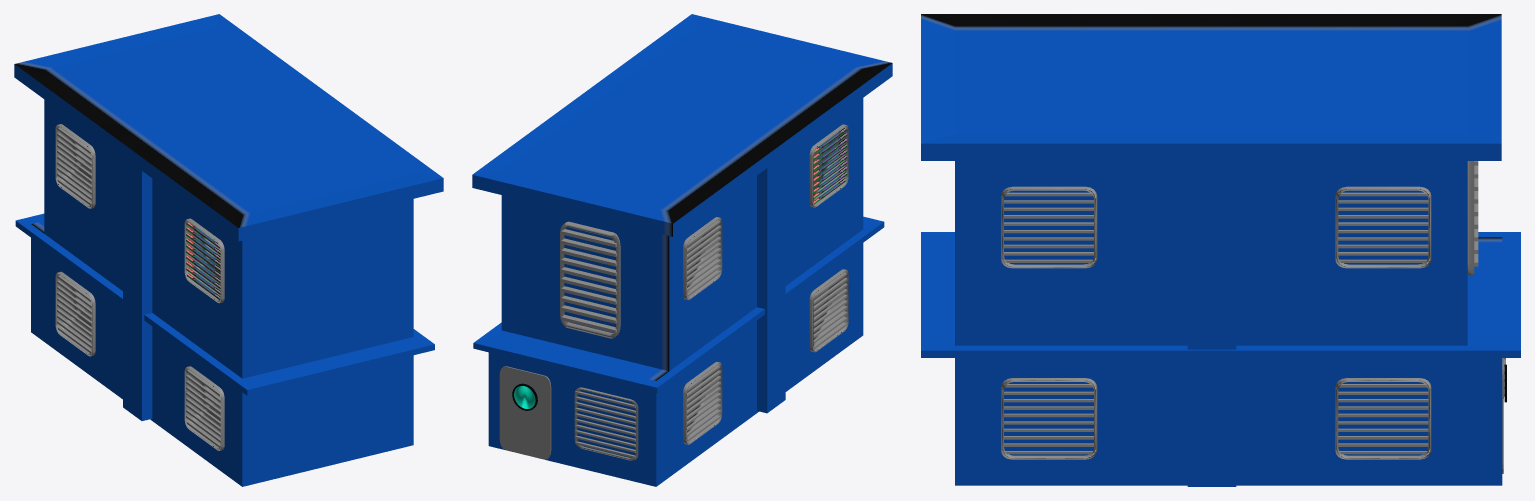
The model's file is Building3.fbx.
The picture shows the model from 3 angles, left to right: view 1: azimuth 30°, elevation 25°; view 2: azimuth 150°, elevation 25°; view 3: azimuth 270°, elevation 25°; orthographic projection. The views are drawn at different scales.
Parts seen in each view (by area): view 1: Cube.030; view 2: Cube.030; view 3: Cube.030.
Boxes of the visible parts, x1,y1,x2,y2 form: Cube.030: (14,14,443,486); Cube.030: (472,14,892,486); Cube.030: (921,14,1520,486).
Size of the model in its own units: 365 by 464 by 715.
